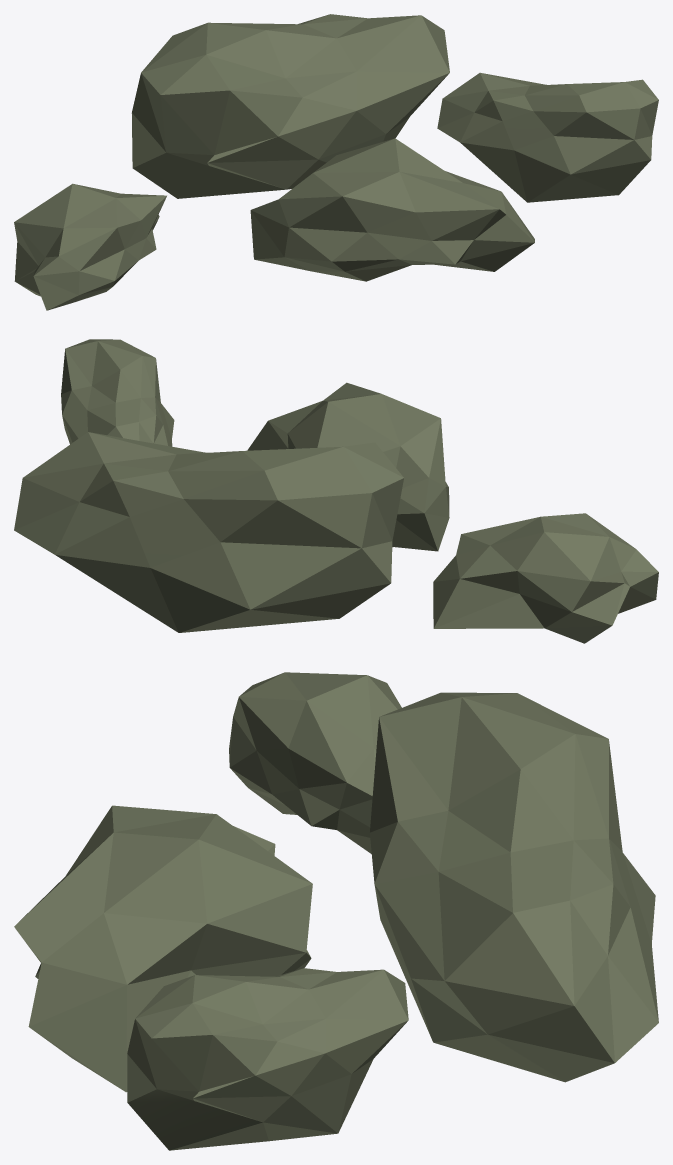
Rendered from rocks.fbx.
3 views of the same model, one above another, from view 1: azimuth 30°, elevation 25°; view 2: azimuth 150°, elevation 25°; view 3: azimuth 270°, elevation 25° (orthographic). The views are drawn at different scales.
Parts seen in each view (by area): view 1: Icosphere.002; view 2: Icosphere.002; view 3: Icosphere.002.
Part boxes in pixels (box(x1,y1,x2,y2)): Icosphere.002: box(14, 14, 658, 310); Icosphere.002: box(14, 339, 658, 643); Icosphere.002: box(14, 672, 658, 1150).
Bounding box in the file's own units: 39246 × 11017 × 24436.
